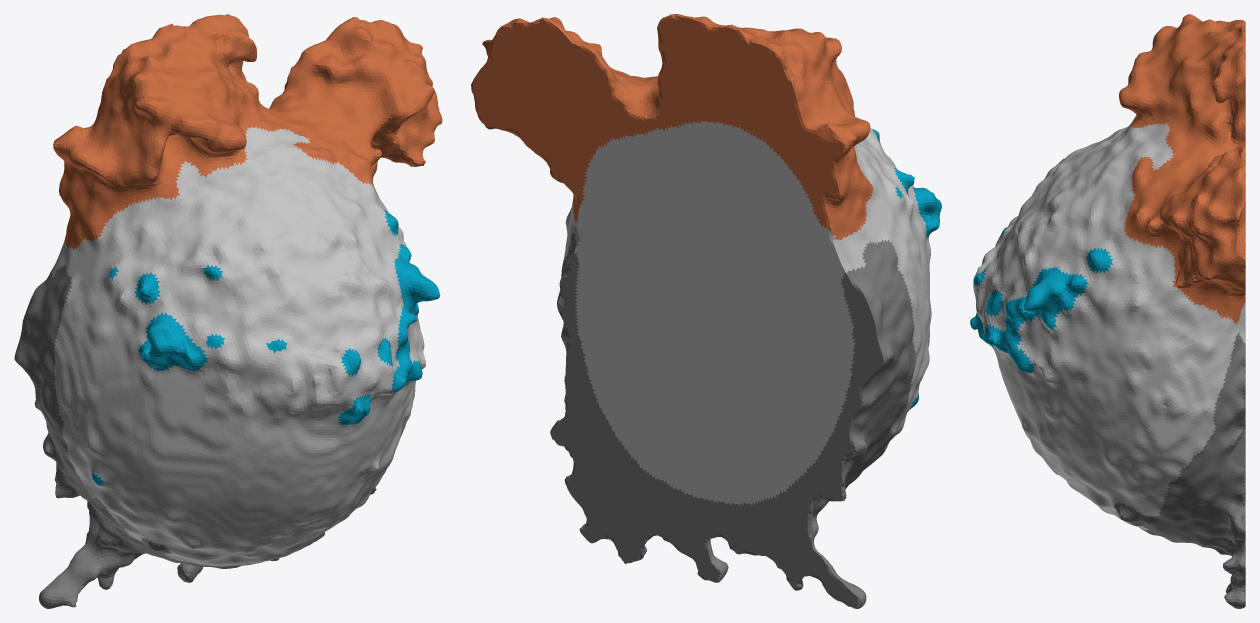
3 views of the same model, side by side, from view 1: azimuth 30°, elevation 25°; view 2: azimuth 150°, elevation 25°; view 3: azimuth 270°, elevation 25° (orthographic). The views are drawn at different scales.
Size of the model in its own units: 106 by 138 by 65.4.
